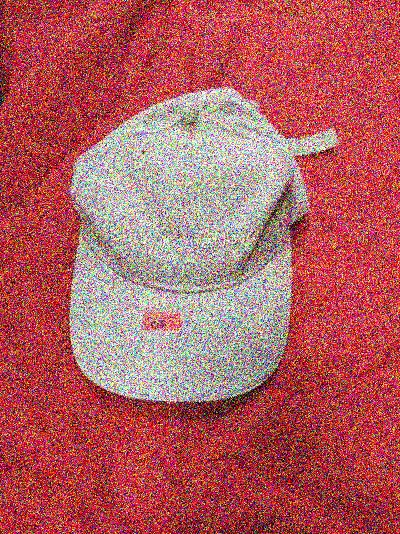Hat: (45, 82, 351, 414)
